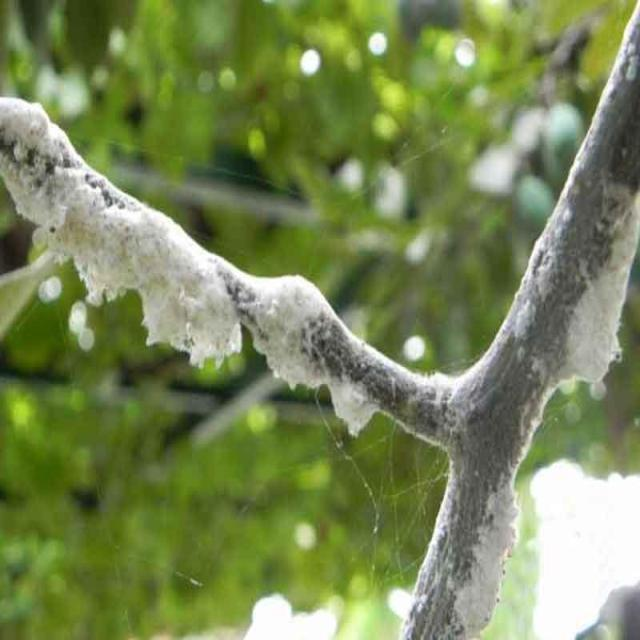Psyllid: (0, 97, 446, 446), (538, 191, 640, 422), (452, 488, 518, 638)
